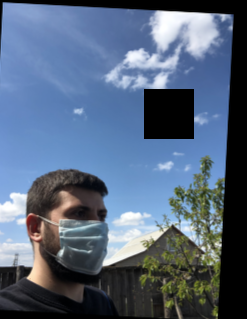with_mask: (53, 198, 108, 285)
